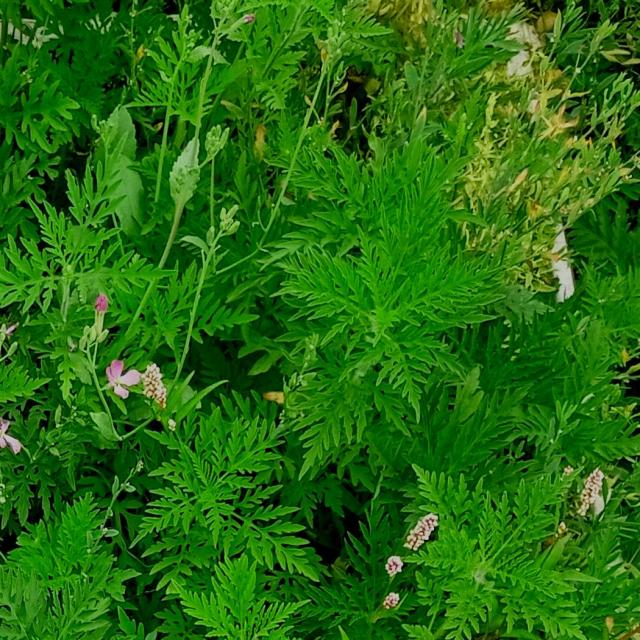AMBEL: (117, 392, 327, 587), (400, 452, 595, 639), (267, 236, 481, 402), (0, 133, 152, 306), (260, 111, 484, 228), (0, 546, 179, 639), (537, 325, 639, 482), (318, 487, 418, 639), (132, 3, 246, 131), (130, 256, 258, 368), (172, 551, 320, 639), (555, 184, 639, 323), (0, 51, 92, 162), (8, 489, 116, 572), (0, 284, 38, 450)
